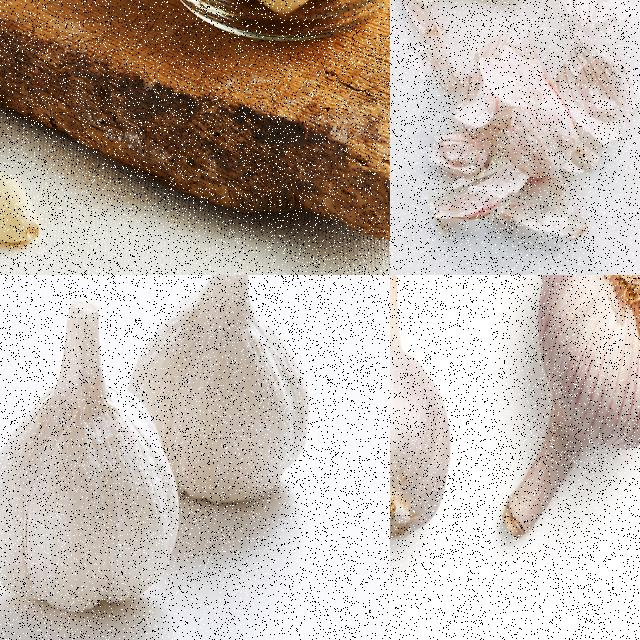garlic: (0, 296, 185, 619), (124, 275, 312, 508), (499, 275, 639, 544), (390, 275, 454, 544), (0, 172, 41, 245)
